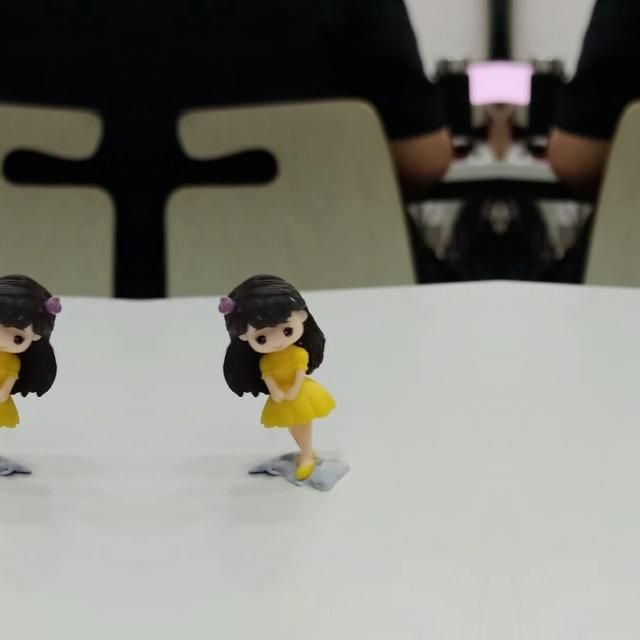woman head: (218, 267, 310, 357), (0, 267, 62, 357)
